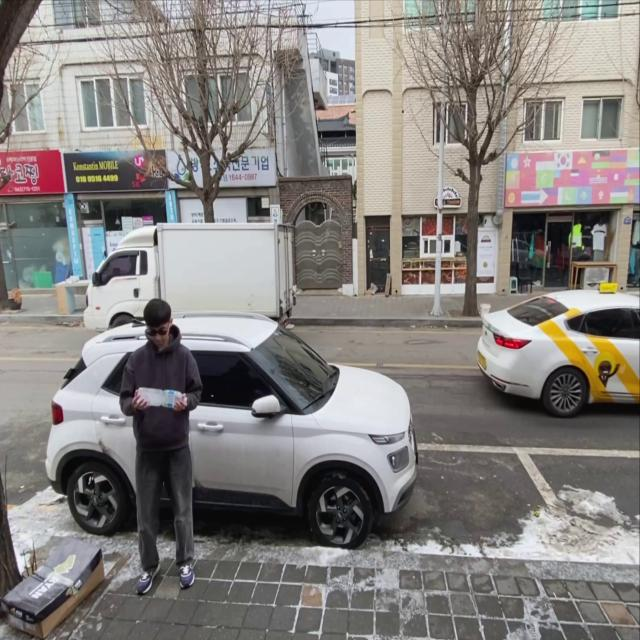bare_hand: (168, 394, 190, 417), (132, 391, 150, 412)
